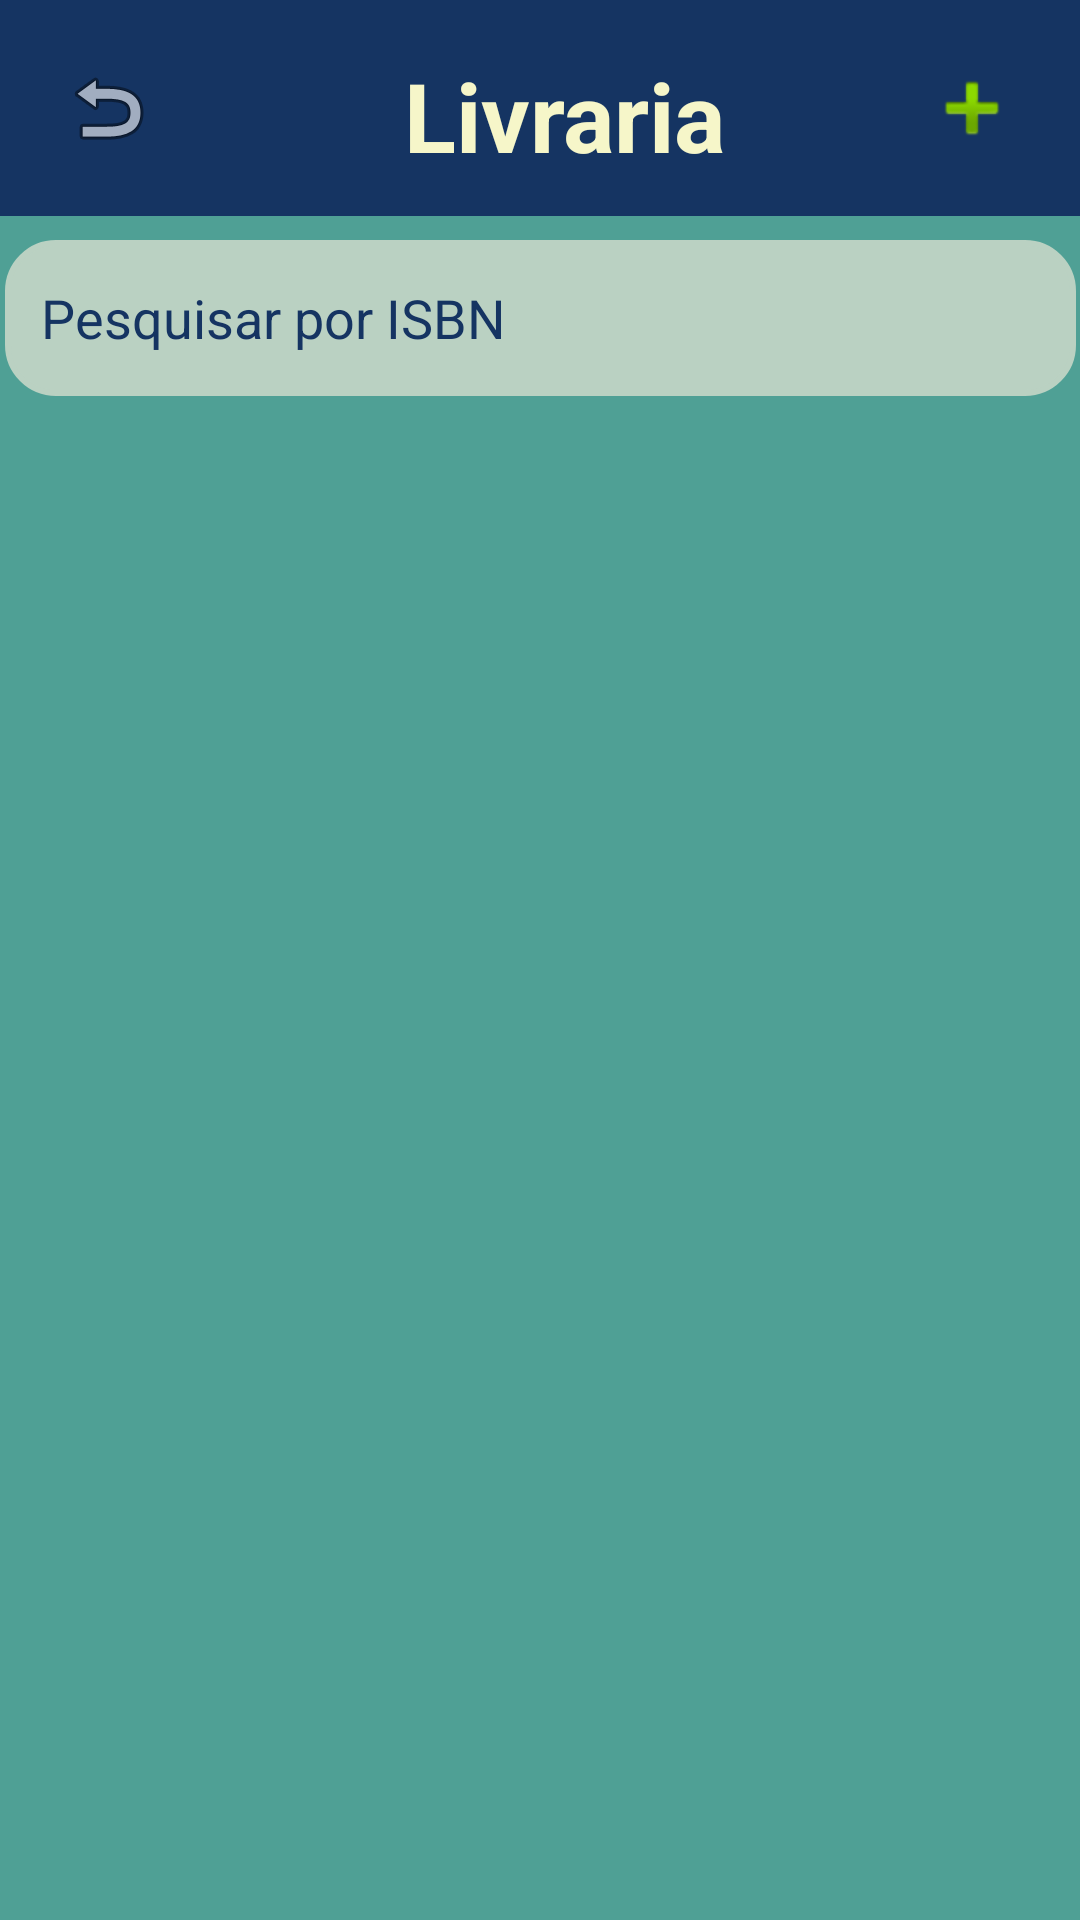

Where icons sit on this 1080px x 1920px app screen, as box=[x1, y1, x2, y2]:
Adicionar Livro: box=[945, 81, 999, 135]
Voltar: box=[75, 78, 143, 140]
